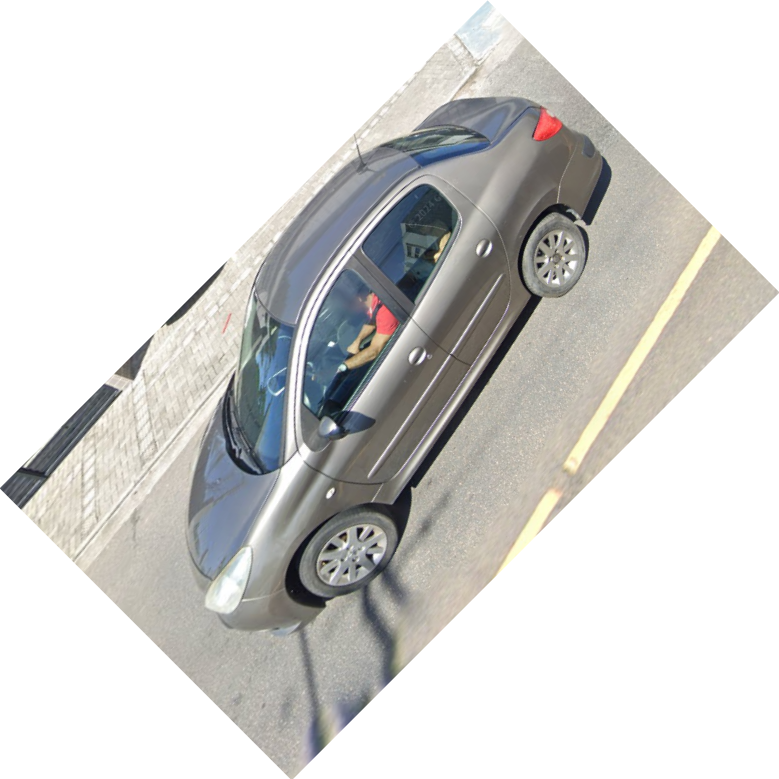car: (184, 93, 607, 641)
